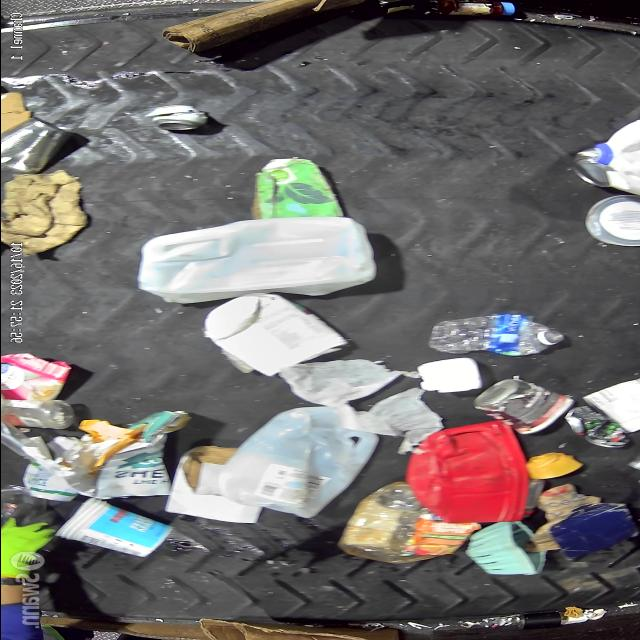can: (470, 377, 578, 437), (0, 115, 73, 176), (562, 406, 630, 448), (142, 104, 212, 134), (566, 152, 615, 188)
milk_jug: (132, 214, 378, 306), (217, 406, 382, 520)
plastic_bottle: (424, 314, 566, 356), (0, 398, 77, 429)
